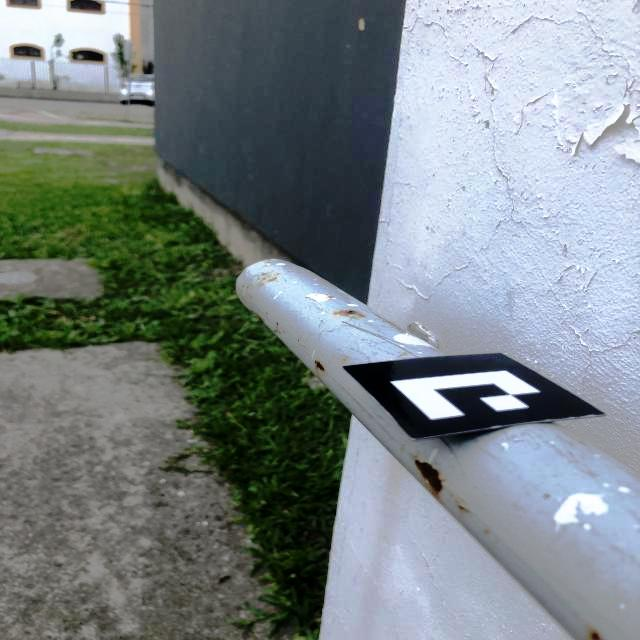Corrosion: (414, 459, 444, 493), (586, 628, 607, 640), (337, 309, 365, 317), (455, 498, 469, 512), (250, 309, 264, 320), (314, 360, 326, 371), (258, 276, 270, 286), (268, 277, 277, 281), (276, 321, 279, 326), (265, 312, 269, 315), (323, 281, 329, 283), (408, 324, 412, 327), (327, 296, 332, 298), (409, 328, 412, 331), (246, 286, 249, 288), (241, 289, 243, 292), (425, 335, 427, 337), (415, 325, 417, 327), (436, 340, 438, 342), (266, 262, 270, 263), (250, 296, 252, 298), (343, 359, 346, 360), (283, 331, 285, 332), (277, 273, 279, 274), (352, 317, 355, 317)
